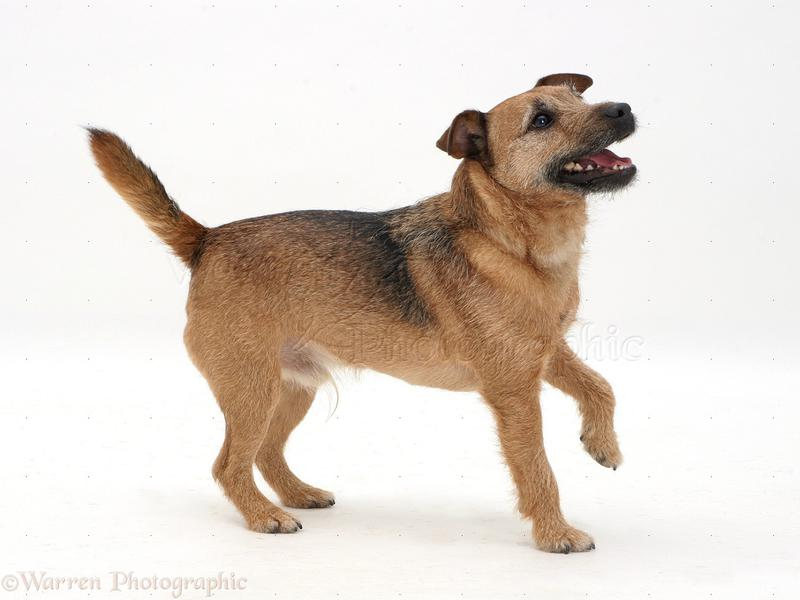dog_stand: (75, 65, 645, 561)
